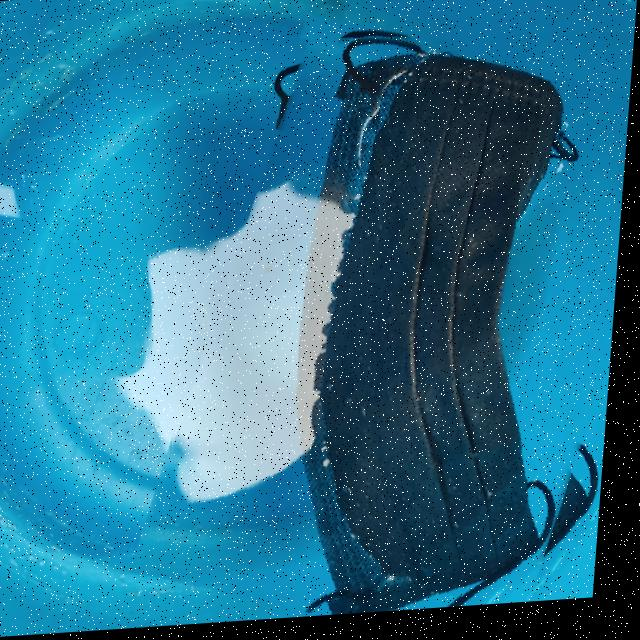mask: (166, 20, 637, 629)
